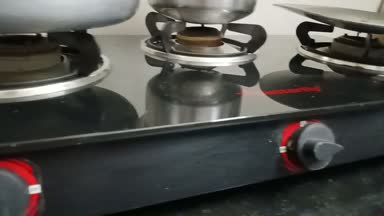flame_gas_off: (158, 21, 345, 171)
